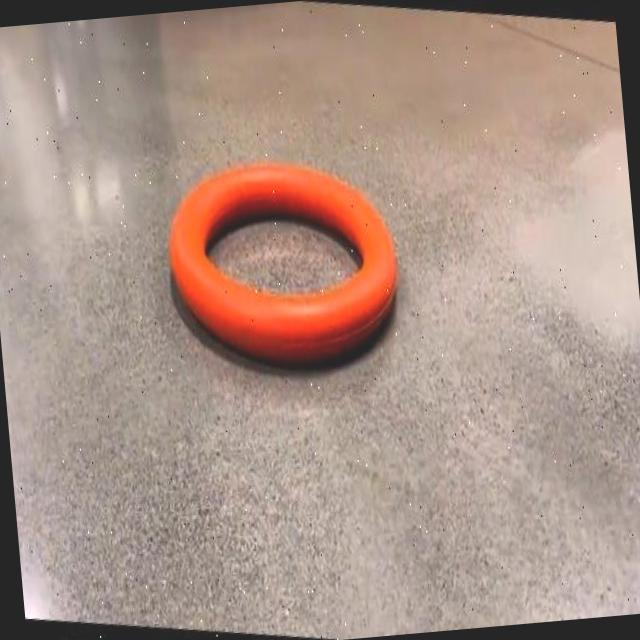note: (169, 163, 397, 364)
